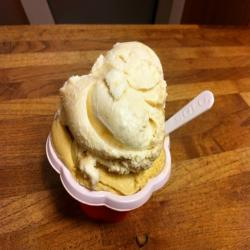icecream: (29, 40, 195, 209)
